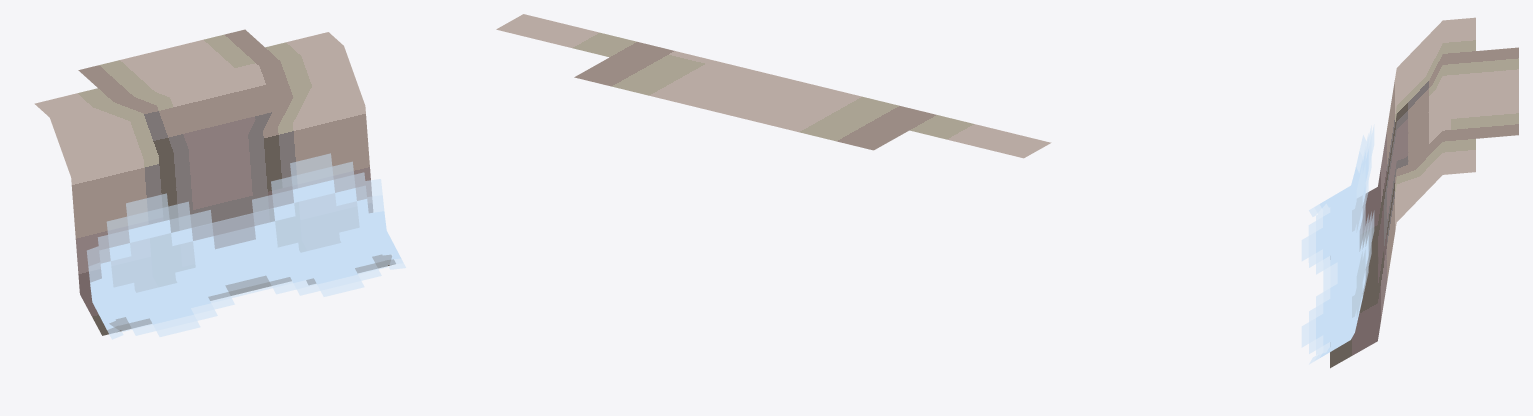
3 views of the same model, side by side, from view 1: azimuth 30°, elevation 25°; view 2: azimuth 150°, elevation 25°; view 3: azimuth 270°, elevation 25° (orthographic). The views are drawn at different scales.
Size of the model in its own units: 1 by 0.7266 by 0.7705.
2 materials, 2 textured.
